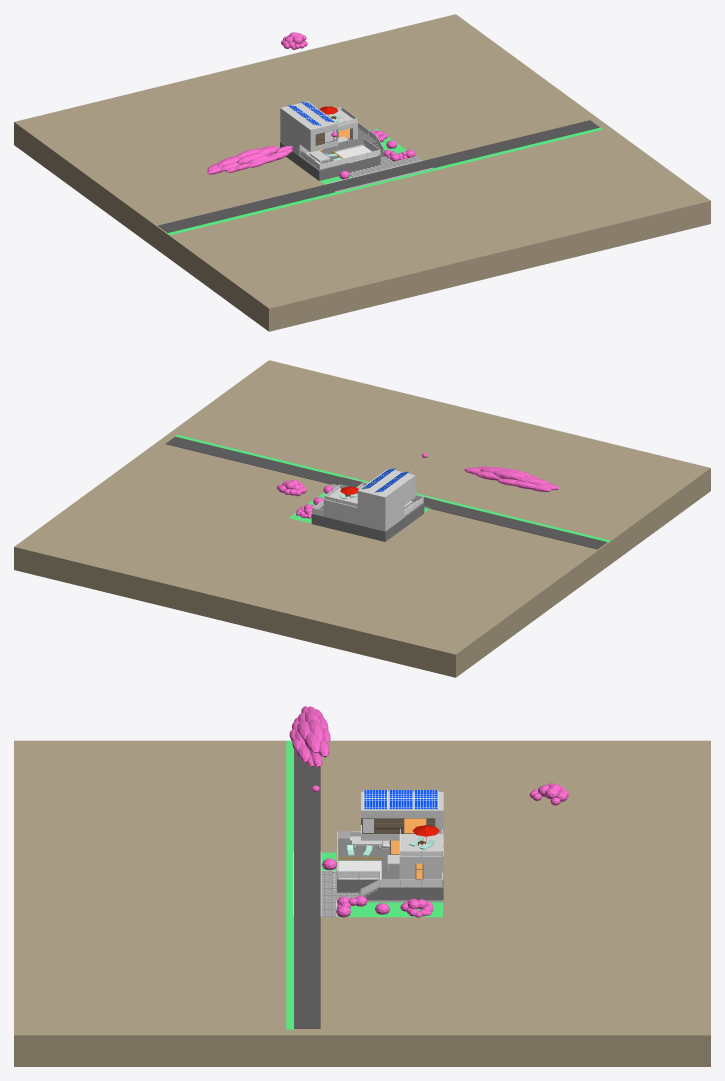
The model's file is house.gltf.
3 views of the same model, one above another, from view 1: azimuth 30°, elevation 25°; view 2: azimuth 150°, elevation 25°; view 3: azimuth 270°, elevation 25° (orthographic). The views are drawn at different scales.
Visible parts, largest first — view 1: Cube, Cube.098, Cube.003, Cube.001, Plane.003; view 2: Cube, Cube.098, Cube.003, Cube.001, Plane.003; view 3: Cube, Cube.098, Cube.003, Cube.001, Plane.003, Plane.002, Cube.104, Cube.002.
Part boxes in pixels (x1,y1,x2,y2): Cube: (14,14,710,331); Cube.098: (158,120,599,232); Cube.003: (280,101,357,156); Cube.001: (280,128,384,180); Plane.003: (166,127,602,235); Cube: (14,360,710,677); Cube.098: (165,436,607,549); Cube.003: (323,468,415,531); Cube.001: (311,500,424,541); Plane.003: (175,435,610,542); Cube: (14,740,710,1066); Cube.098: (294,750,320,1028); Cube.003: (361,792,443,879); Cube.001: (337,838,443,900); Plane.003: (286,740,296,1029); Plane.002: (337,902,442,917); Cube.104: (322,871,358,916); Cube.002: (338,861,381,879).
Bounding box in the file's own units: 9.02 × 1.94 × 9.02.
